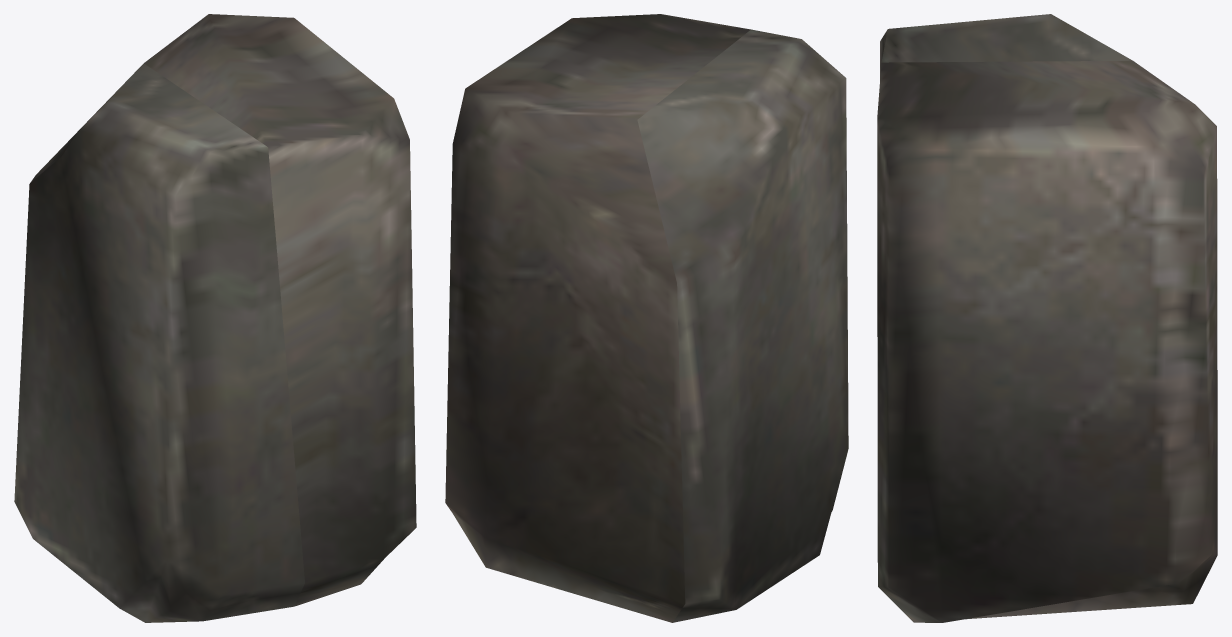
Rendered from SC_SLstone10.FBX.
The picture shows the model from 3 angles, left to right: view 1: azimuth 30°, elevation 25°; view 2: azimuth 150°, elevation 25°; view 3: azimuth 270°, elevation 25°; orthographic projection. The views are drawn at different scales.
Visible parts, largest first — view 1: SC_SLstone10; view 2: SC_SLstone10; view 3: SC_SLstone10.
Part boxes in pixels (x1=…): SC_SLstone10: x1=14, y1=14, x2=416, y2=622; SC_SLstone10: x1=445, y1=14, x2=848, y2=622; SC_SLstone10: x1=877, y1=14, x2=1217, y2=622.
Size of the model in its own units: 0.7057 by 1.22 by 0.7252.
